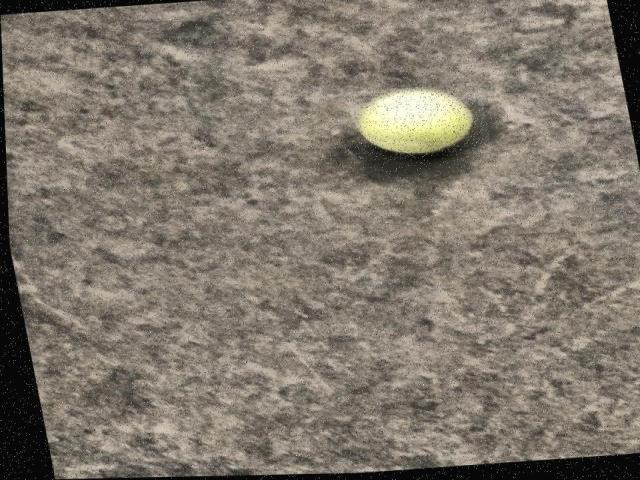tennis-ball: (355, 89, 473, 154)
